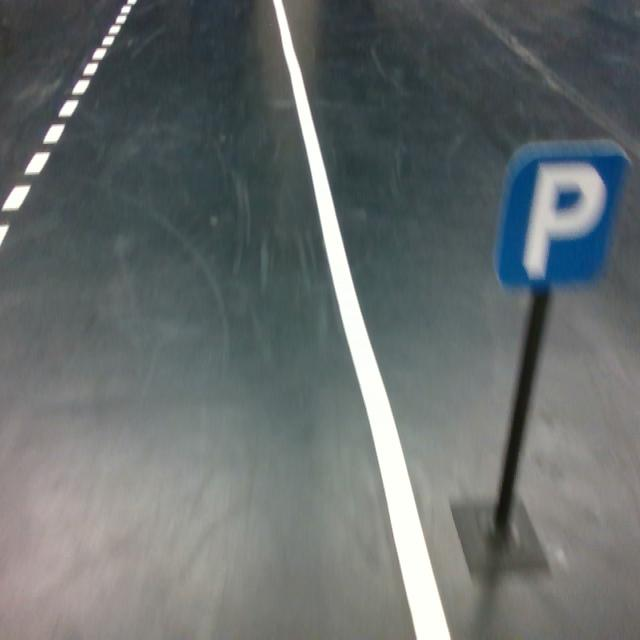parking-sign: (492, 137, 628, 290)
